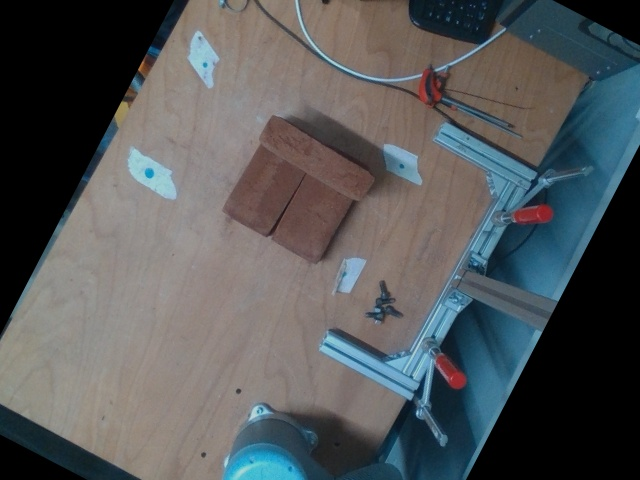brick-side: (261, 116, 373, 202)
